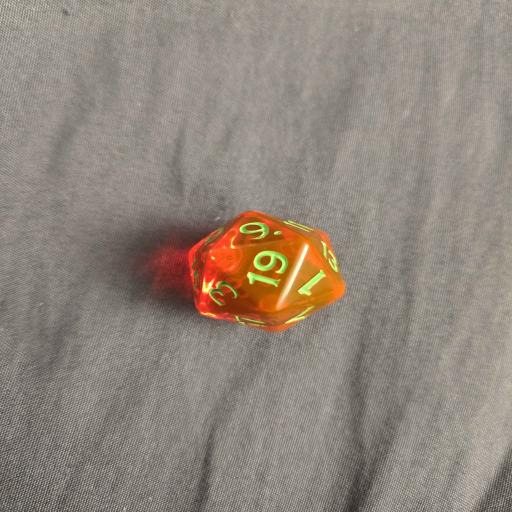twenty sided dice: (188, 210, 346, 333)
